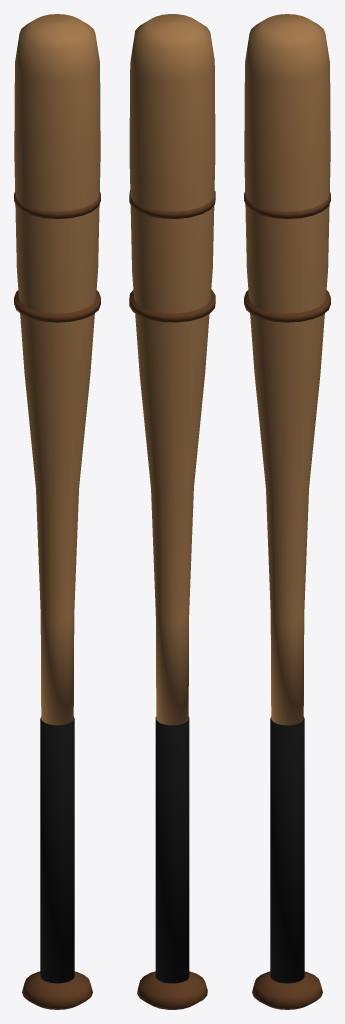
The model's file is baseball_bat.glb.
3 views of the same model, side by side, from view 1: azimuth 90°, elevation 25°; view 2: azimuth 150°, elevation 25°; view 3: azimuth 270°, elevation 25° (orthographic).
Visible parts, largest first — view 1: BaseballBat; view 2: BaseballBat; view 3: BaseballBat.
Part boxes in pixels (x1=…): BaseballBat: x1=14, y1=14, x2=100, y2=1009; BaseballBat: x1=129, y1=14, x2=215, y2=1009; BaseballBat: x1=244, y1=14, x2=330, y2=1009.
Bounding box in the file's own units: 0.0684 × 0.85 × 0.0684.
